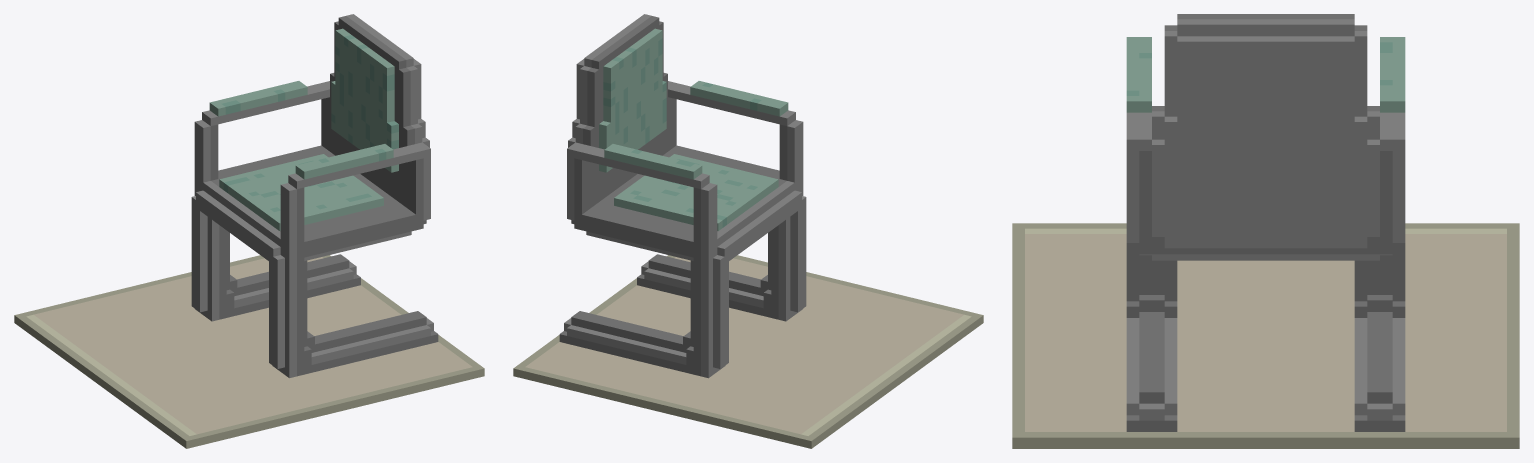
Rendered from Cadeira.obj.
The picture shows the model from 3 angles, left to right: view 1: azimuth 30°, elevation 25°; view 2: azimuth 150°, elevation 25°; view 3: azimuth 270°, elevation 25°; orthographic projection. The views are drawn at different scales.
Size of the model in its own units: 40 by 36 by 40.
1 material, 1 textured.
